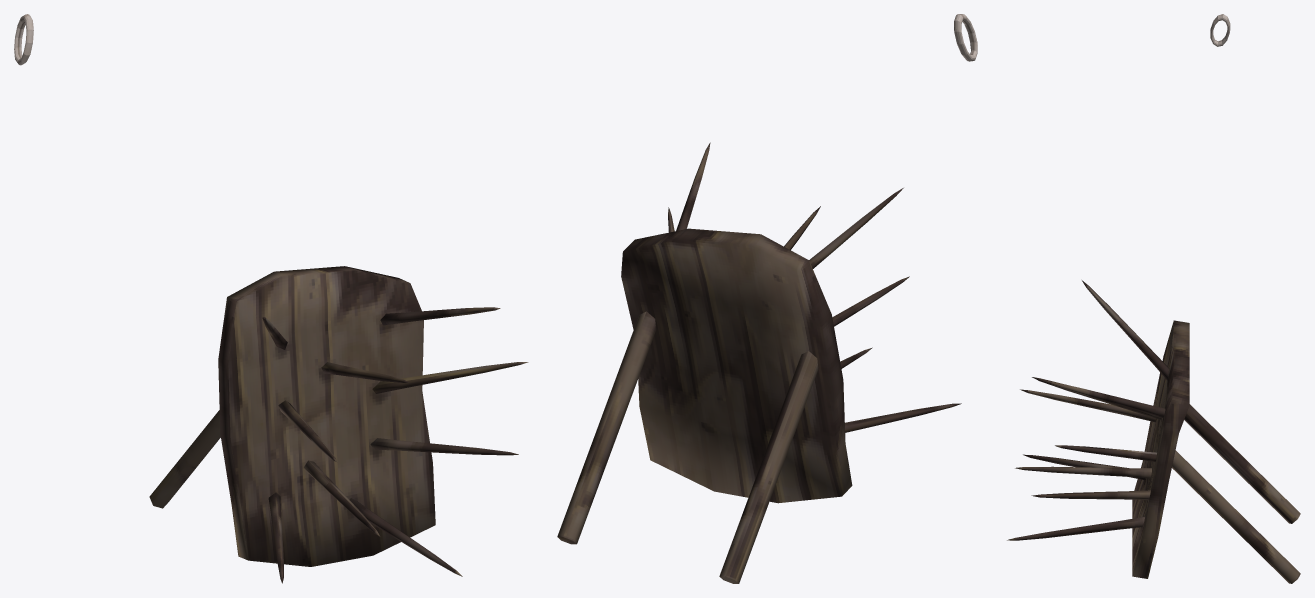
The model's file is Wooden Barricade.fbx.
The picture shows the model from 3 angles, left to right: view 1: azimuth 30°, elevation 25°; view 2: azimuth 150°, elevation 25°; view 3: azimuth 270°, elevation 25°; orthographic projection. The views are drawn at different scales.
Visible parts, largest first — view 1: Cube, Cylinder.001, Cylinder.003, Cylinder.004, Cylinder.005, Cylinder.009, Cylinder.010, Cylinder.008, Cylinder.002, Torus, Cylinder.006; view 2: Cube, Cylinder.001, Cylinder.008, Cylinder.007, Torus, Cylinder.009, Cylinder.006; view 3: Cube, Cylinder.001, Cylinder.005, Cylinder.010, Cylinder.007, Cylinder.009, Cylinder.006, Cylinder.004, Cylinder.003, Cylinder.008.
Boxes of the visible parts, box(x1,y1,x2,y2) form: Cube: box(218, 266, 435, 566); Cylinder.001: box(149, 410, 220, 508); Cylinder.003: box(372, 362, 528, 393); Cylinder.004: box(370, 438, 518, 455); Cylinder.005: box(349, 498, 462, 576); Cylinder.009: box(380, 307, 500, 325); Cylinder.010: box(304, 460, 380, 536); Cylinder.008: box(268, 492, 283, 583); Cylinder.002: box(321, 362, 408, 382); Torus: box(14, 14, 33, 65); Cylinder.006: box(278, 400, 337, 462); Cube: box(621, 228, 852, 503); Cylinder.001: box(557, 311, 818, 583); Cylinder.008: box(845, 403, 961, 432); Cylinder.007: box(809, 188, 903, 268); Torus: box(954, 14, 977, 61); Cylinder.009: box(676, 142, 710, 230); Cylinder.006: box(832, 276, 909, 326); Cube: box(1132, 320, 1189, 578); Cylinder.001: box(1172, 404, 1300, 583); Cylinder.005: box(1007, 517, 1144, 540); Cylinder.010: box(1015, 466, 1151, 478); Cylinder.007: box(1082, 280, 1168, 380); Cylinder.009: box(1044, 380, 1165, 417); Cylinder.006: box(1020, 389, 1156, 422); Cylinder.004: box(1031, 490, 1150, 499); Cylinder.003: box(1055, 445, 1156, 461); Cylinder.008: box(1023, 454, 1145, 480).
Bounding box in the file's own units: 1429 × 1926 × 1160.
